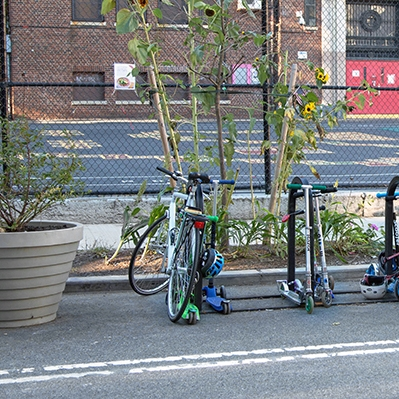Bicycle: (122, 165, 241, 322)
